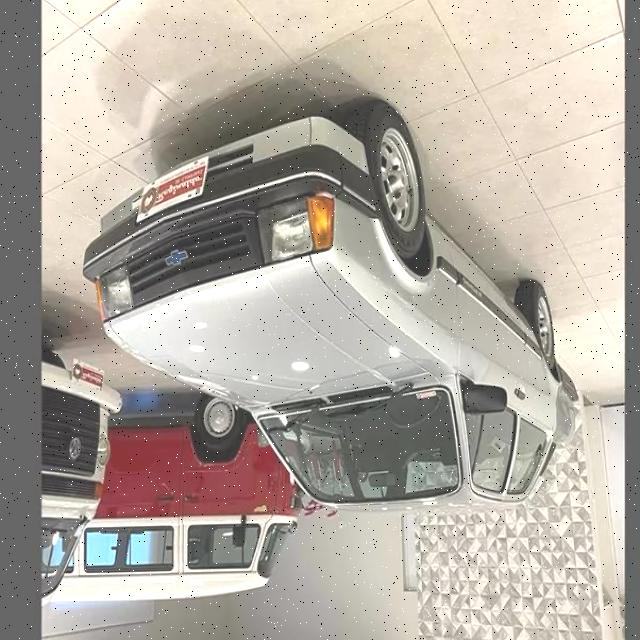car: (80, 92, 586, 512)
